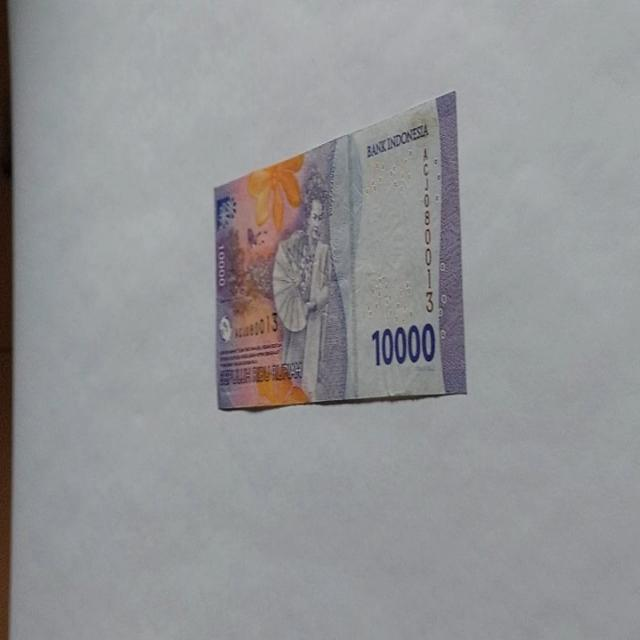Kertas: (213, 89, 467, 411), (370, 321, 436, 368)
